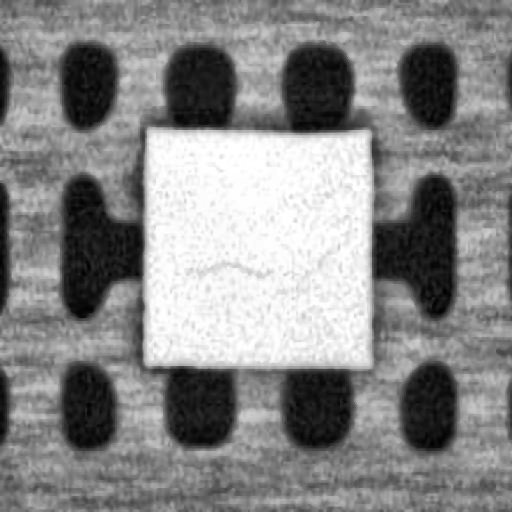DIE_CRACK: (186, 250, 268, 282)
